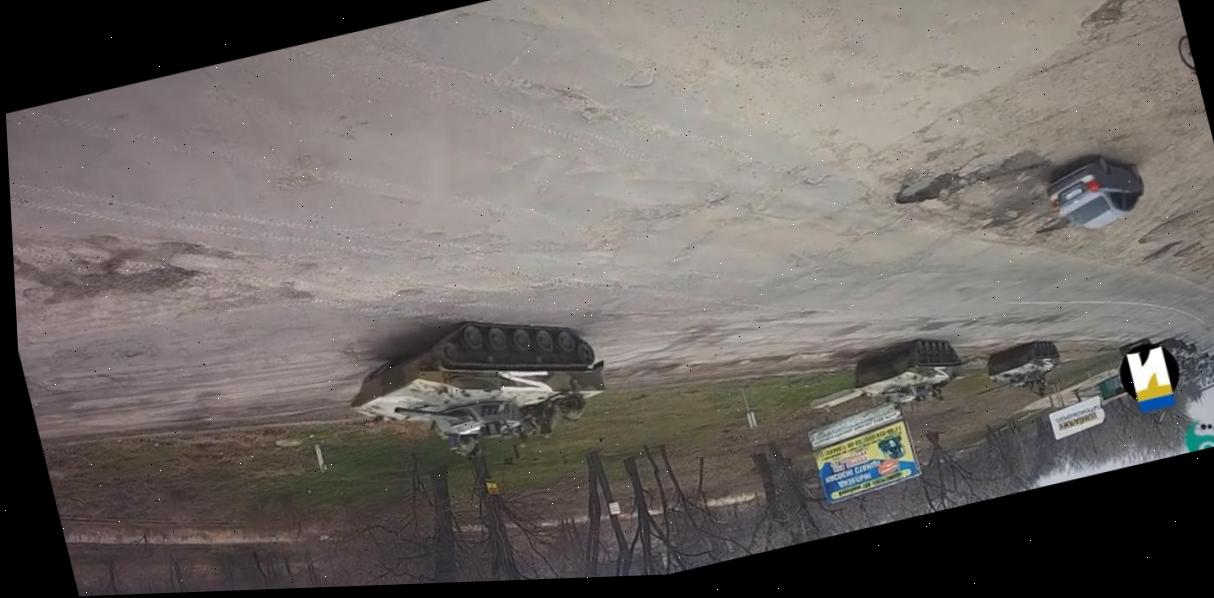car: (1038, 147, 1155, 240)
tank: (332, 288, 643, 485), (842, 323, 975, 424), (965, 338, 1072, 411)
